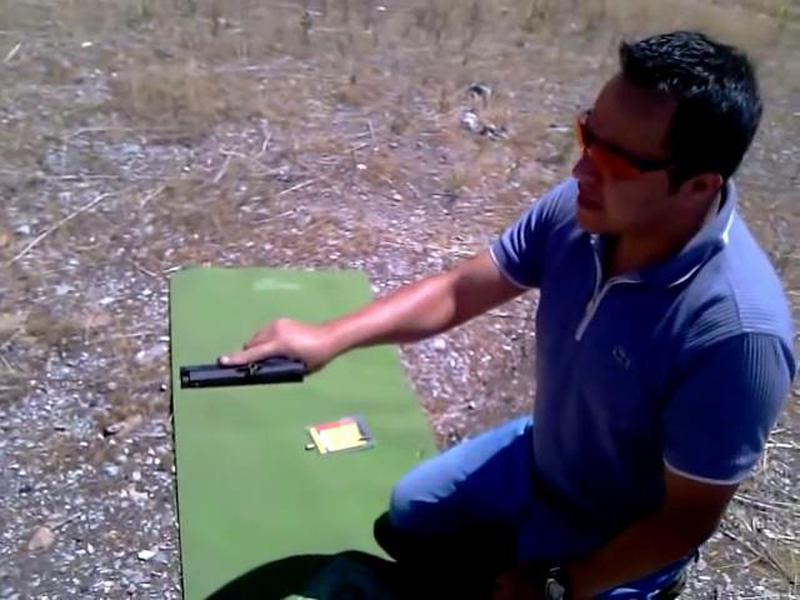Pistola: (177, 322, 314, 408)
